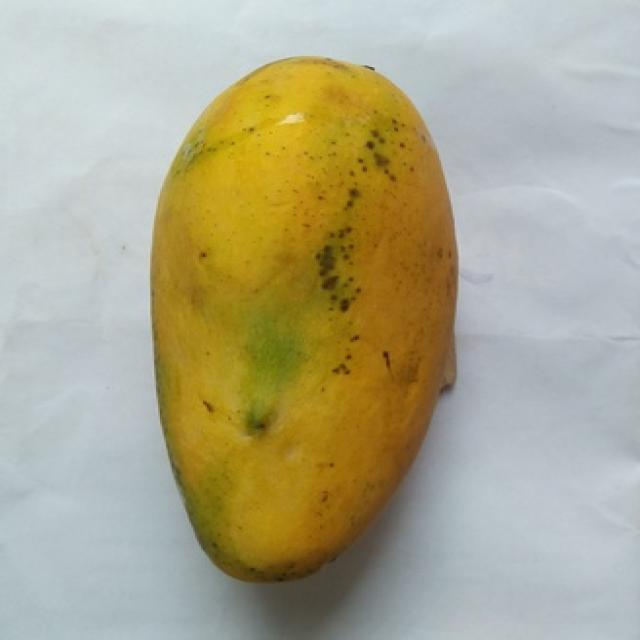Mango: (152, 57, 457, 581)
